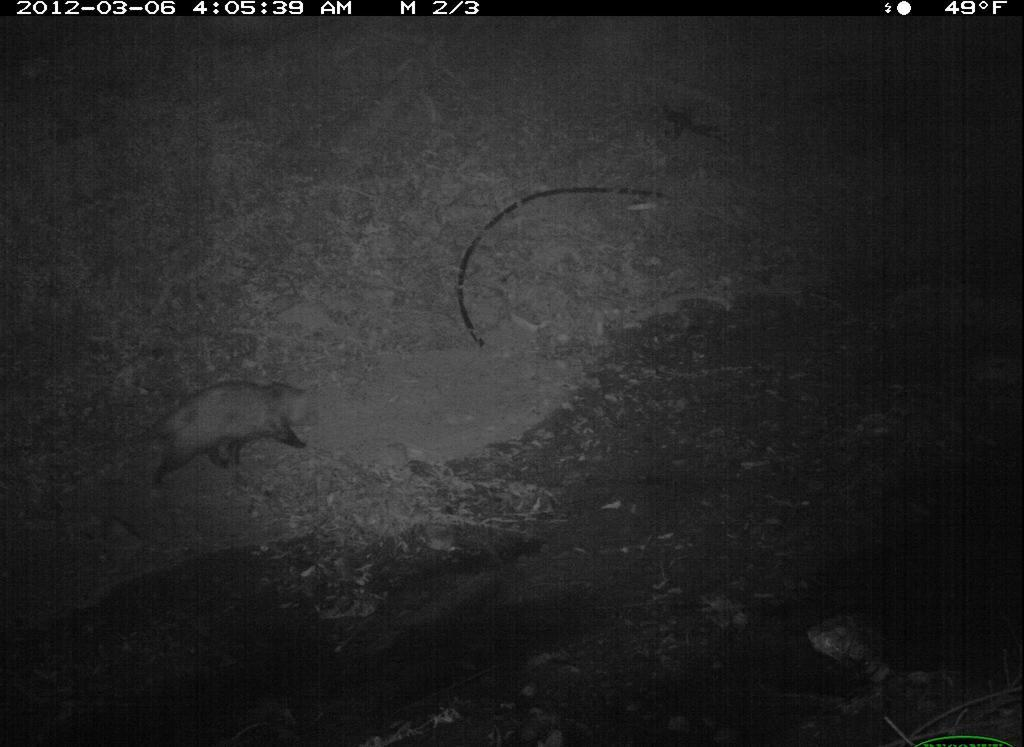opossum: (89, 377, 320, 493)
